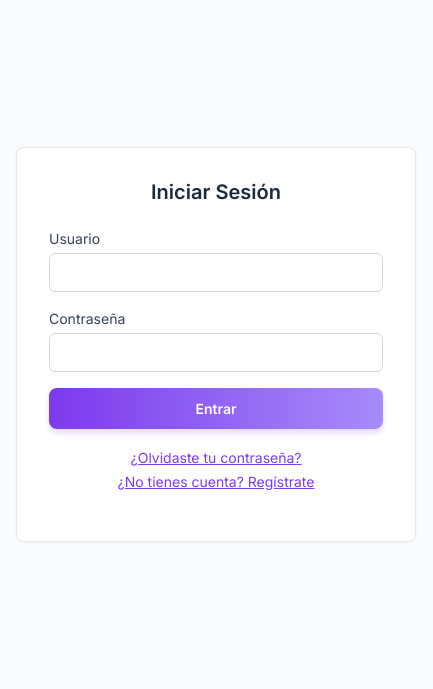
Test case: muestra error si las contraseñas no coinciden en registro
Step 1. Click the button with class "auth-toggle-link" showing "¿No tienes cuenta? Regístrate" → (216, 481), box [118,470,314,492]
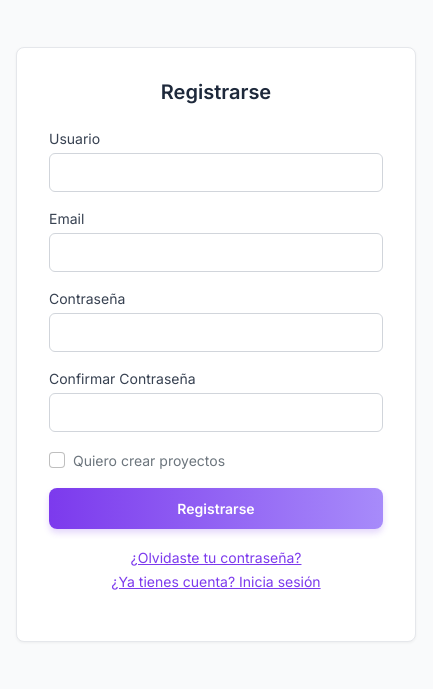
Step 2. Type "usuario" into the field with id "username" → (216, 172), box [49,152,383,192]
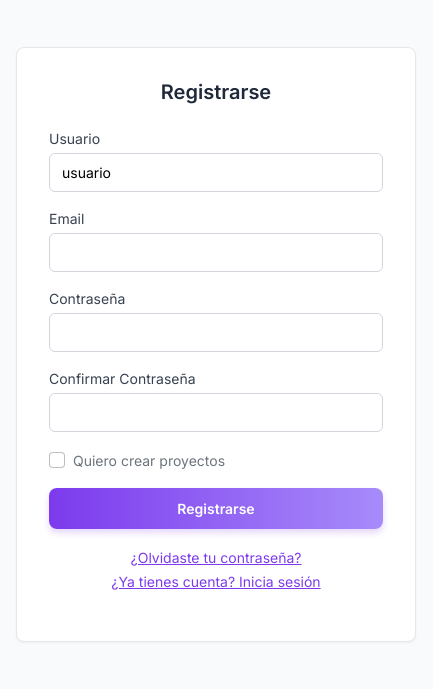
Step 3. Type "usuario@correo.com" into the field with id "email" → (216, 252), box [49,232,383,272]
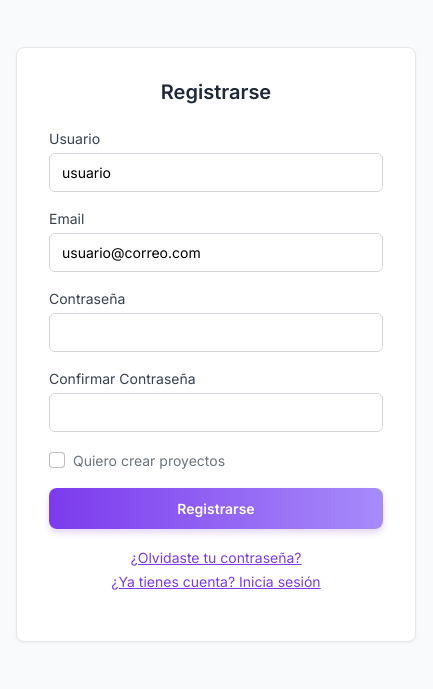
Step 4. Type "password123" into the password field labelled "Contraseña" → (216, 332), box [49,312,383,352]
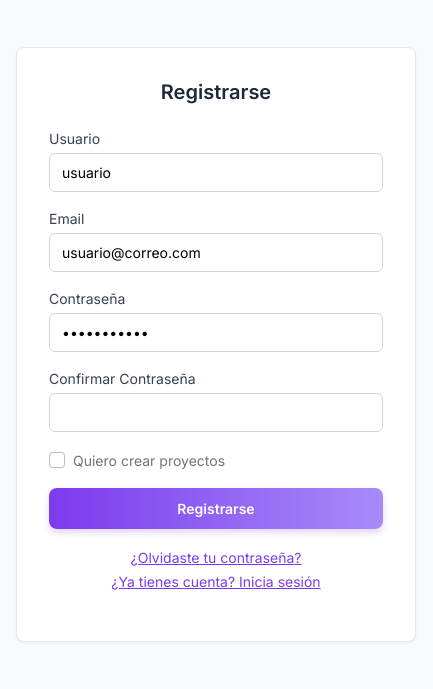
Step 5. Type "diferente123" into the password field with id "confirmPassword" → (216, 412), box [49,392,383,432]
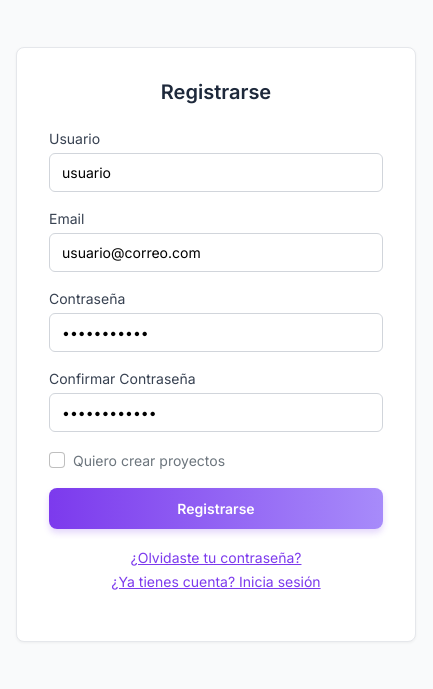
Step 6. Submit the form, box [49,128,383,528]
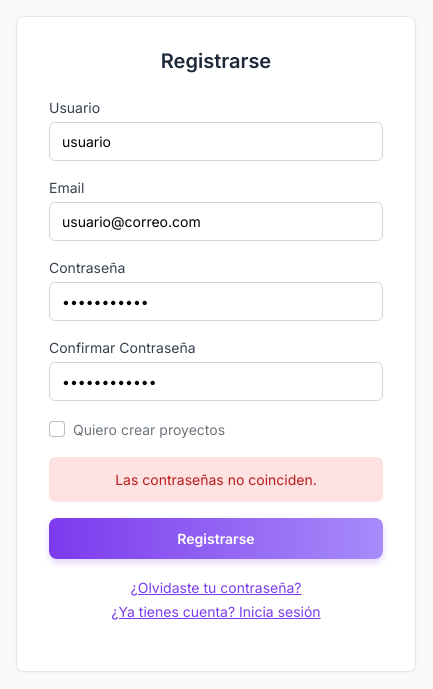
Expected: the text "Las contraseñas no coinciden." is shown, [49,457,383,502]
